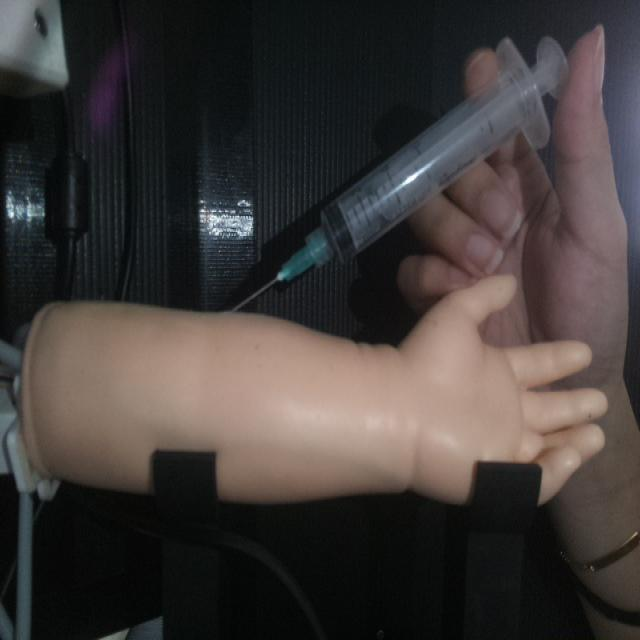Outside: (213, 32, 575, 315)
